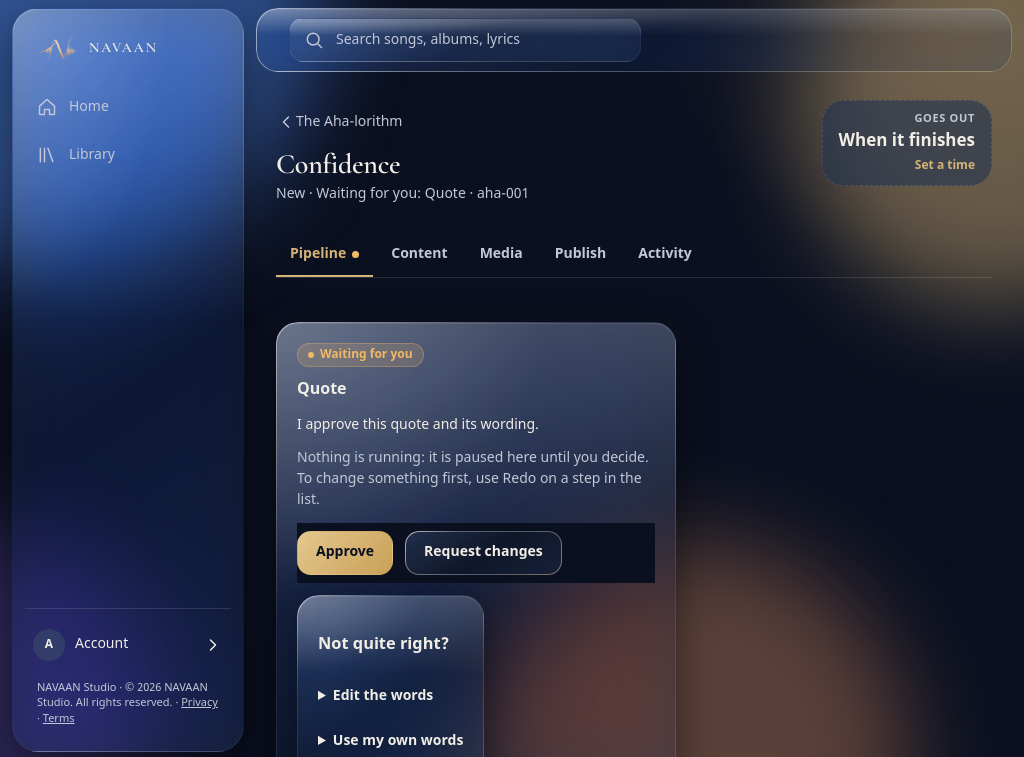
Test: Changing an Aha-lorithm script at its approval › edits the words of each beat and saves them
Click the heading "Edit the words" at (383, 696), box x1=333 y1=686 x2=433 y2=706
(page scrolled)
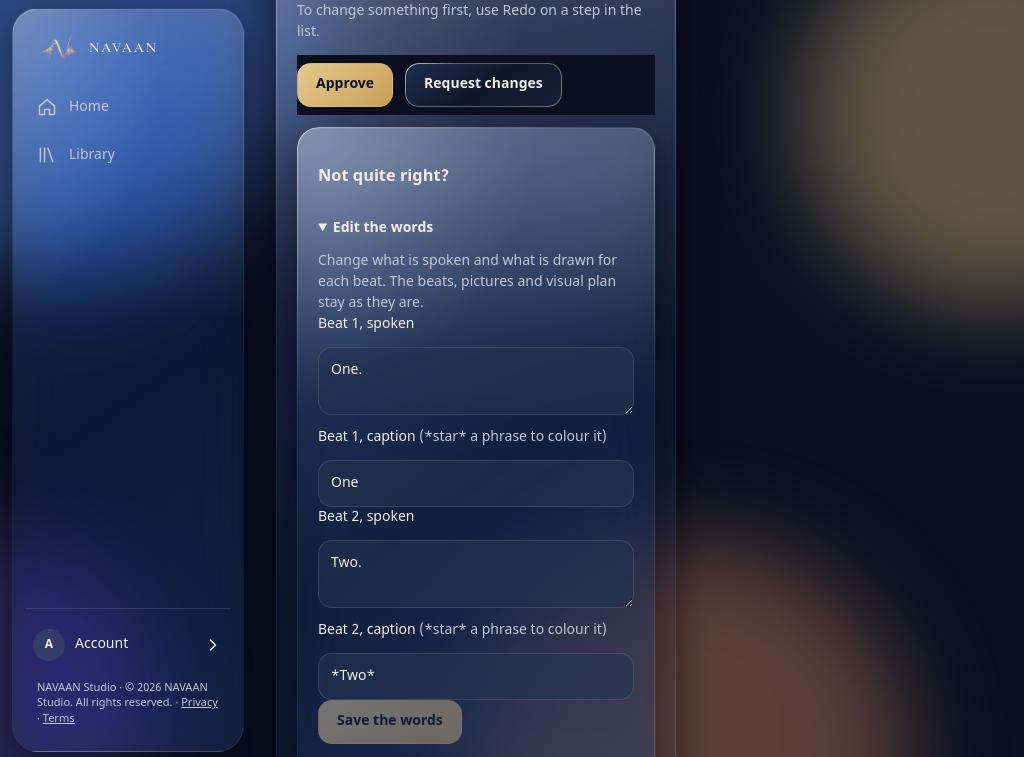
Check: the text box labelled "Beat 1, spoken" holds "One."
Check: the field labelled "Beat 2, caption (*star* a phrase to colour it)" holds "*Two*", box x1=318 y1=652 x2=634 y2=700
Check: the button "Save the words" is disabled, box x1=318 y1=700 x2=462 y2=744
Replace the text in the text box labelled "Beat 1, spoken" with "Uno." at (476, 380), box x1=318 y1=346 x2=634 y2=414
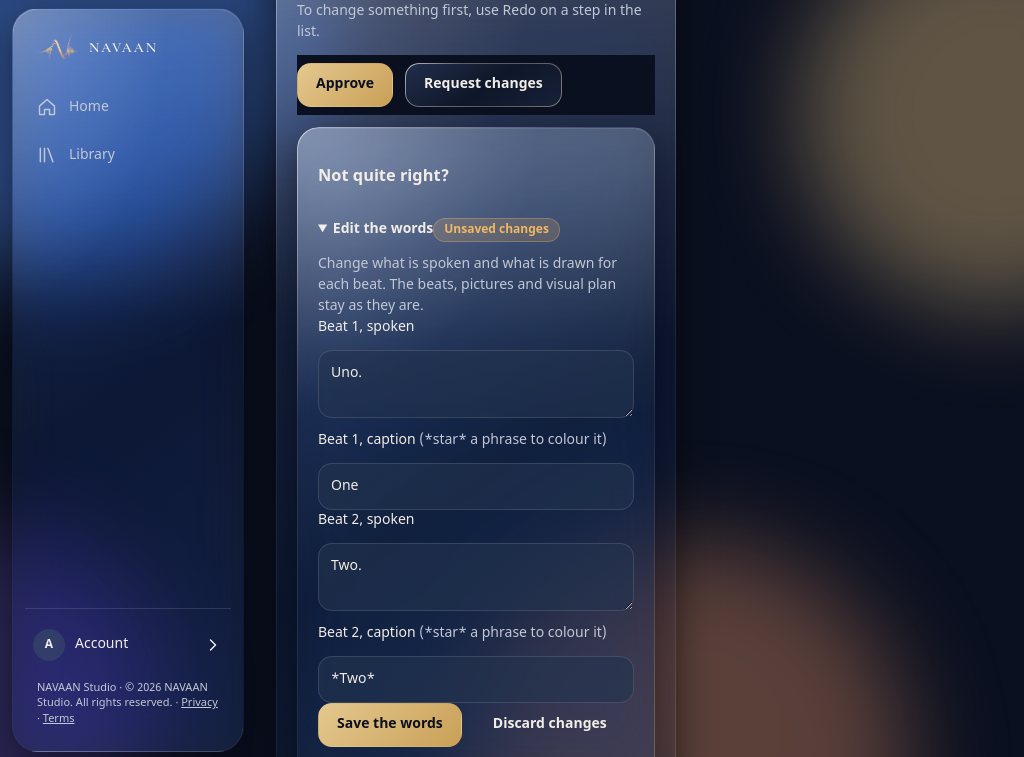
Replace the text in the field labelled "Beat 2, caption (*star* a phrase to colour it)" with "*Dos*" at (476, 679), box x1=318 y1=656 x2=634 y2=702
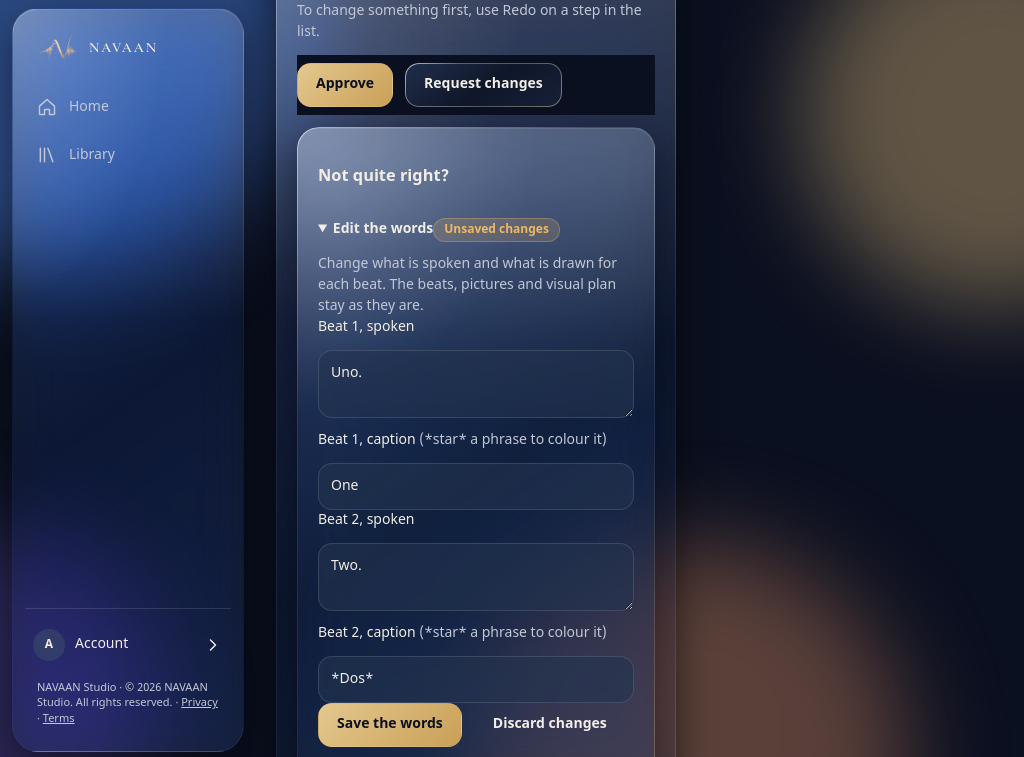
Click the button "Save the words" at (390, 724), box x1=318 y1=702 x2=462 y2=746
(page scrolled)
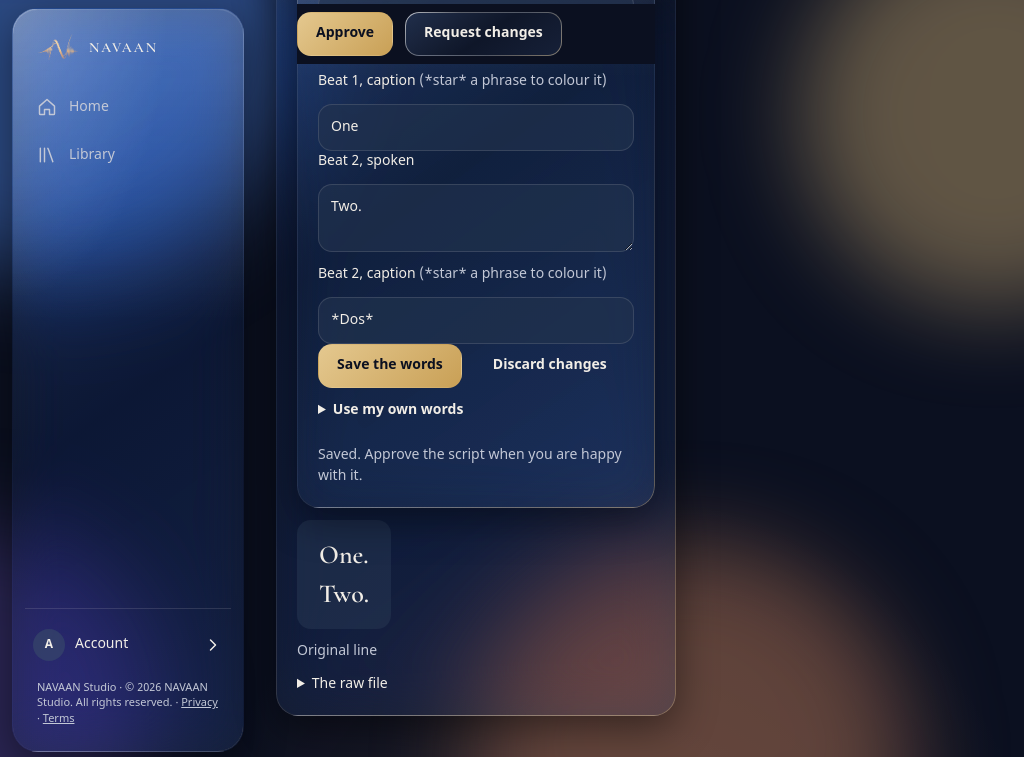
Check: the message shows "Saved. Approve the script", box x1=318 y1=446 x2=622 y2=486
